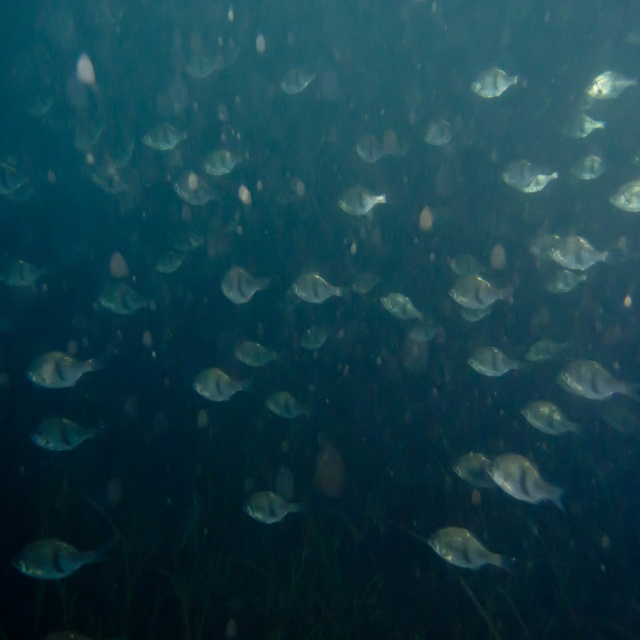Fish: (489, 453, 566, 518), (13, 534, 112, 584), (428, 530, 518, 578), (558, 356, 640, 404), (25, 347, 112, 389), (517, 397, 587, 443), (33, 412, 103, 455), (548, 236, 620, 271), (193, 362, 254, 402), (446, 272, 514, 306), (379, 289, 433, 331), (468, 344, 532, 379), (96, 279, 158, 315), (240, 492, 305, 526), (284, 272, 353, 304), (221, 263, 272, 305), (472, 68, 528, 102), (173, 170, 223, 206), (562, 106, 610, 143), (334, 183, 385, 217), (140, 117, 188, 152), (454, 452, 494, 493), (265, 386, 307, 423), (589, 67, 640, 96), (78, 112, 115, 148), (234, 342, 287, 367), (2, 260, 49, 286), (502, 156, 552, 180), (608, 178, 640, 215), (204, 148, 248, 174), (601, 407, 637, 438), (281, 67, 320, 94), (422, 117, 463, 142), (352, 135, 388, 160), (302, 323, 334, 350), (0, 161, 28, 191), (450, 255, 486, 278), (183, 56, 216, 81), (571, 155, 604, 180), (525, 169, 560, 192), (520, 341, 565, 357), (354, 267, 380, 293), (392, 128, 410, 160), (158, 251, 184, 272), (462, 306, 490, 325), (406, 326, 438, 338)
